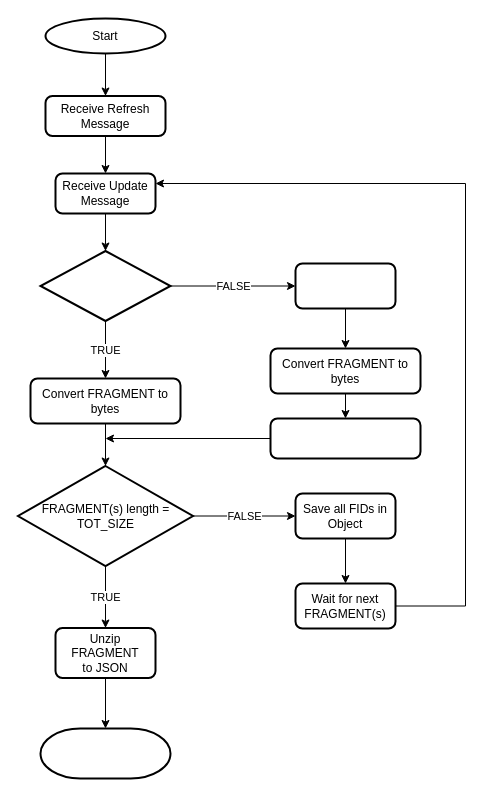
Image size: 491x796. Some labels were removed from this diagram. Here are the shapes that lost their labels. From the top down, the centre of each, then its label:
At point 105,286: "FRAG_NUM = 1".
At point 345,285: "Get previous FIDs of this GUID".
At point 345,438: "Add FRAGMENT to previous FRAGMENT(s)".
At point 105,753: "News completed for this GUID".
